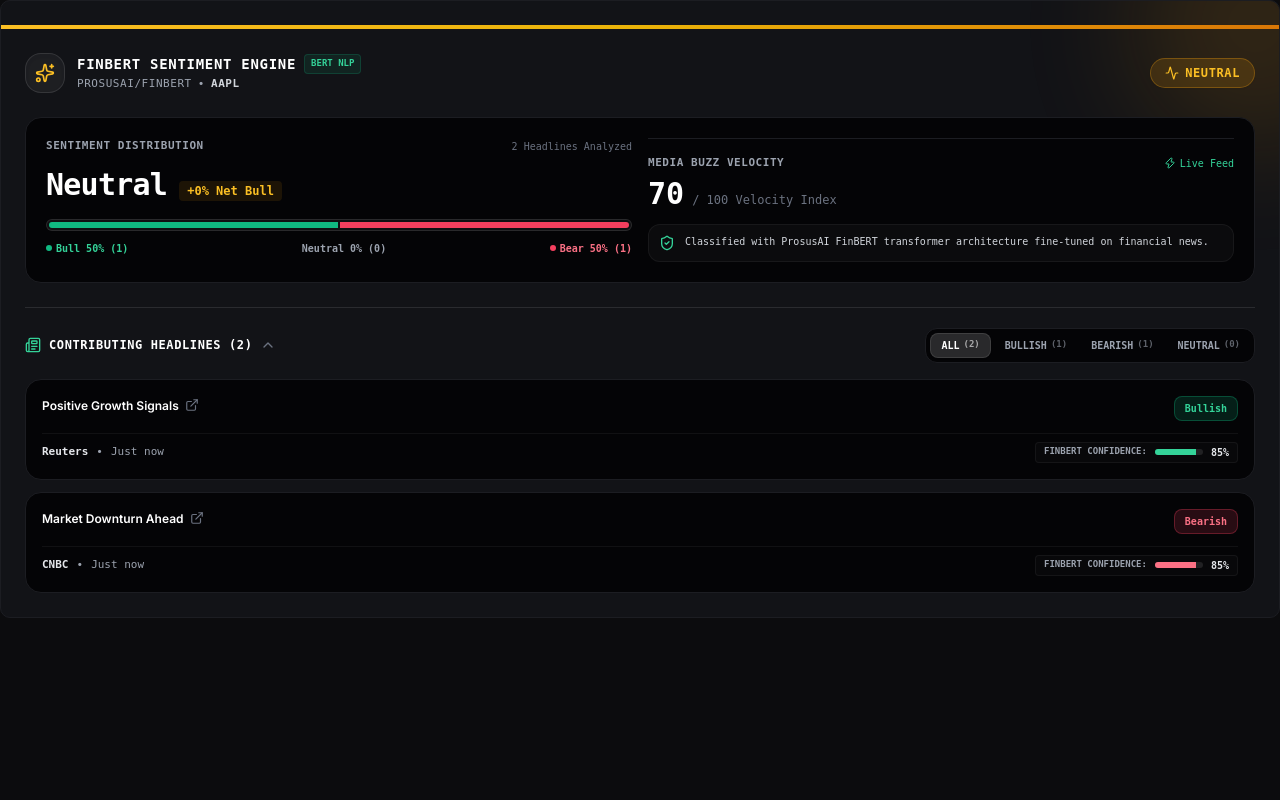
Test: SentimentWidget › filters articles when clicking tab filters
Click the button "BEARISH (1)" at (1122, 345), box [1081,334,1164,356]
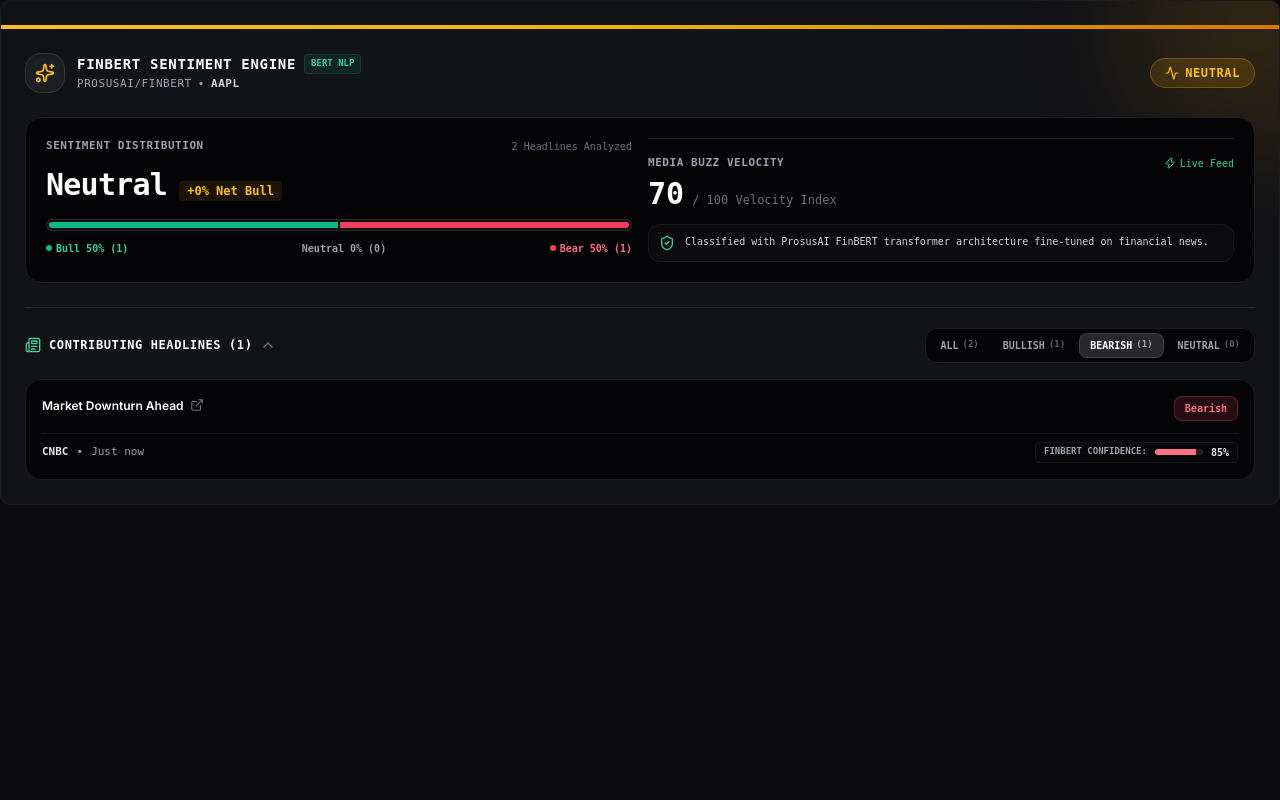
Expected: the link "Positive Growth Signals" is gone
Expected: the text "Market Downturn Ahead" is shown, [42,396,184,415]
